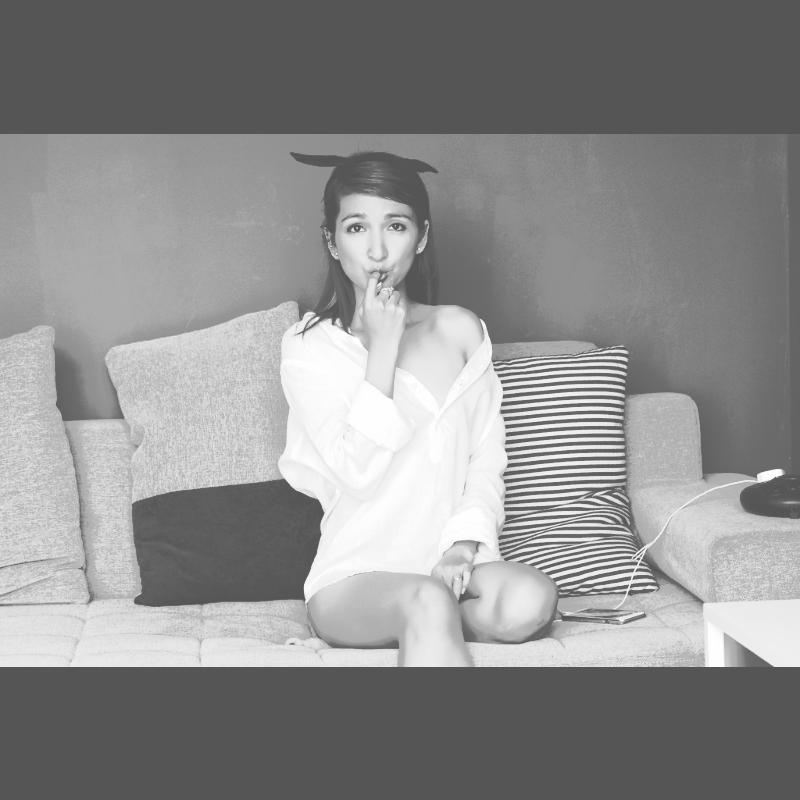pillow: (104, 298, 346, 606), (456, 339, 672, 596), (1, 322, 90, 602)
